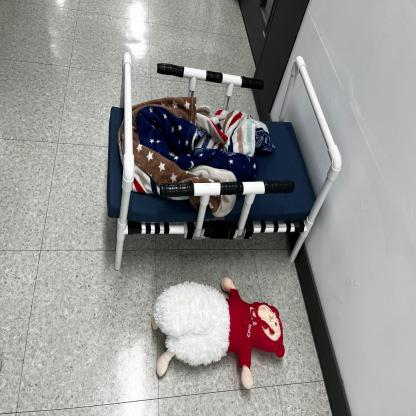np: (94, 46, 358, 397)
